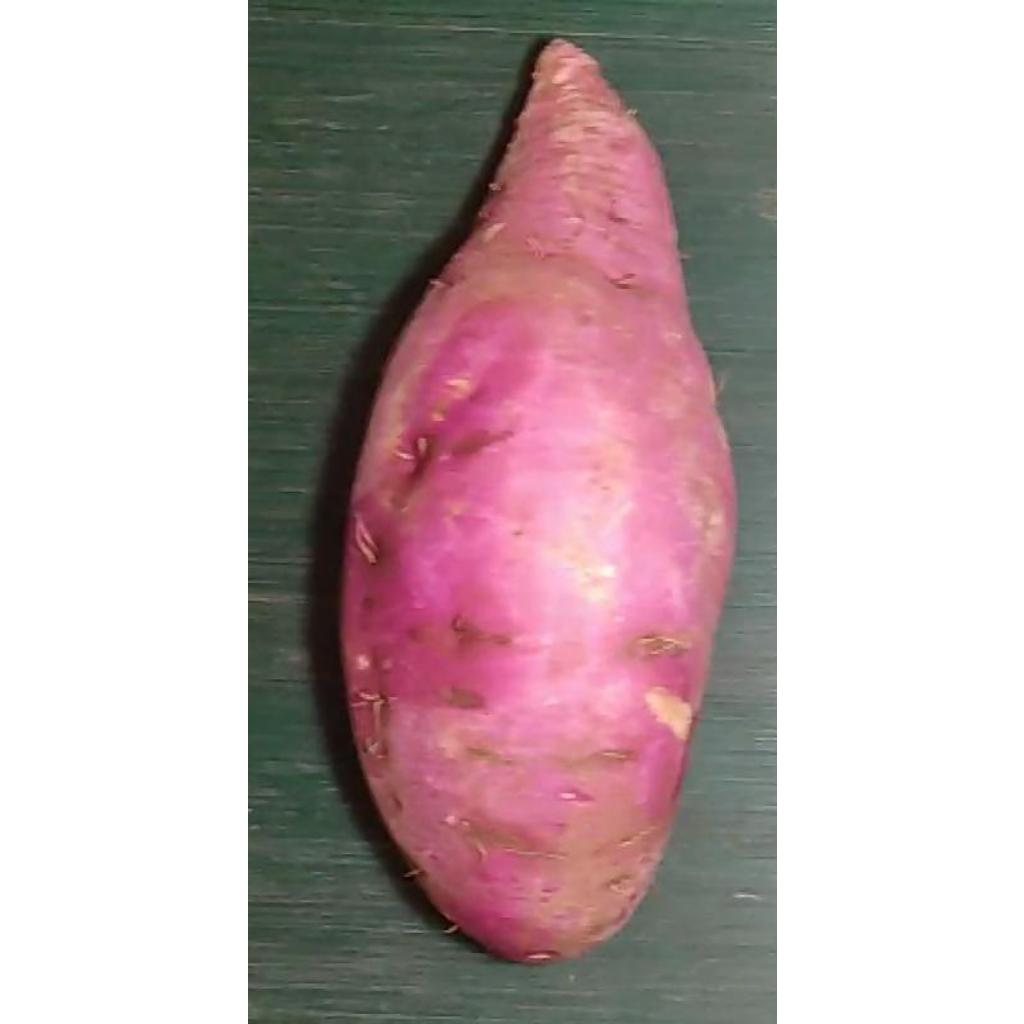Sweet Potato: (338, 38, 737, 964)
